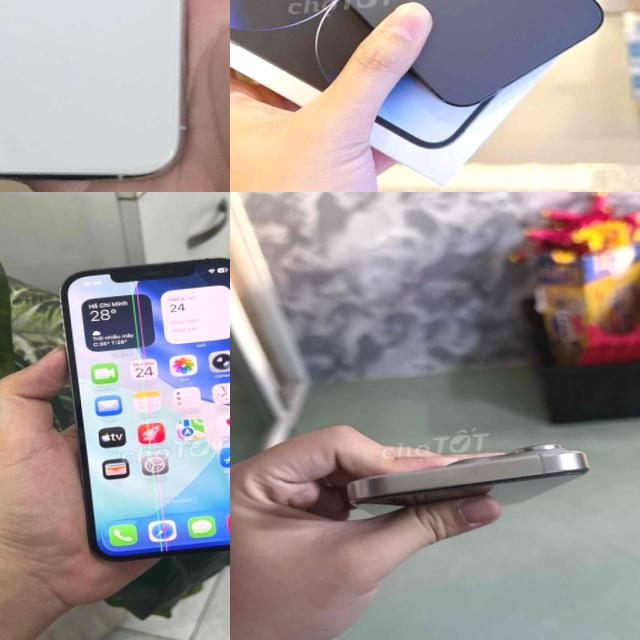screen_defect: (109, 264, 198, 562)
